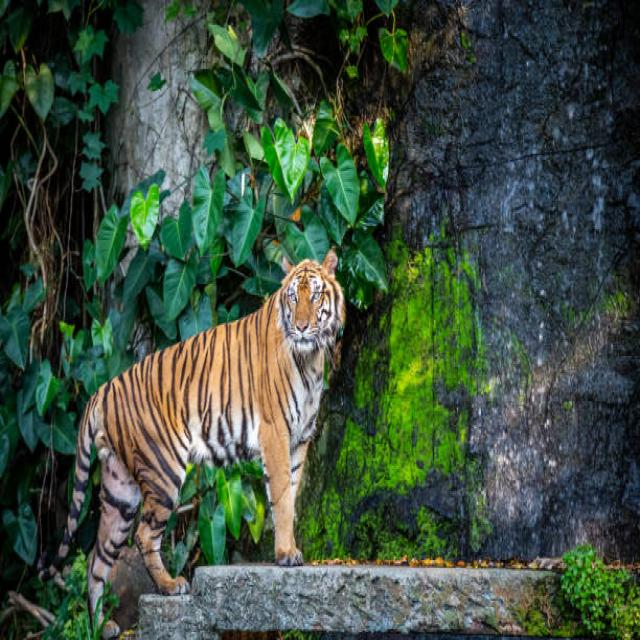not_pig: (37, 246, 346, 637)
